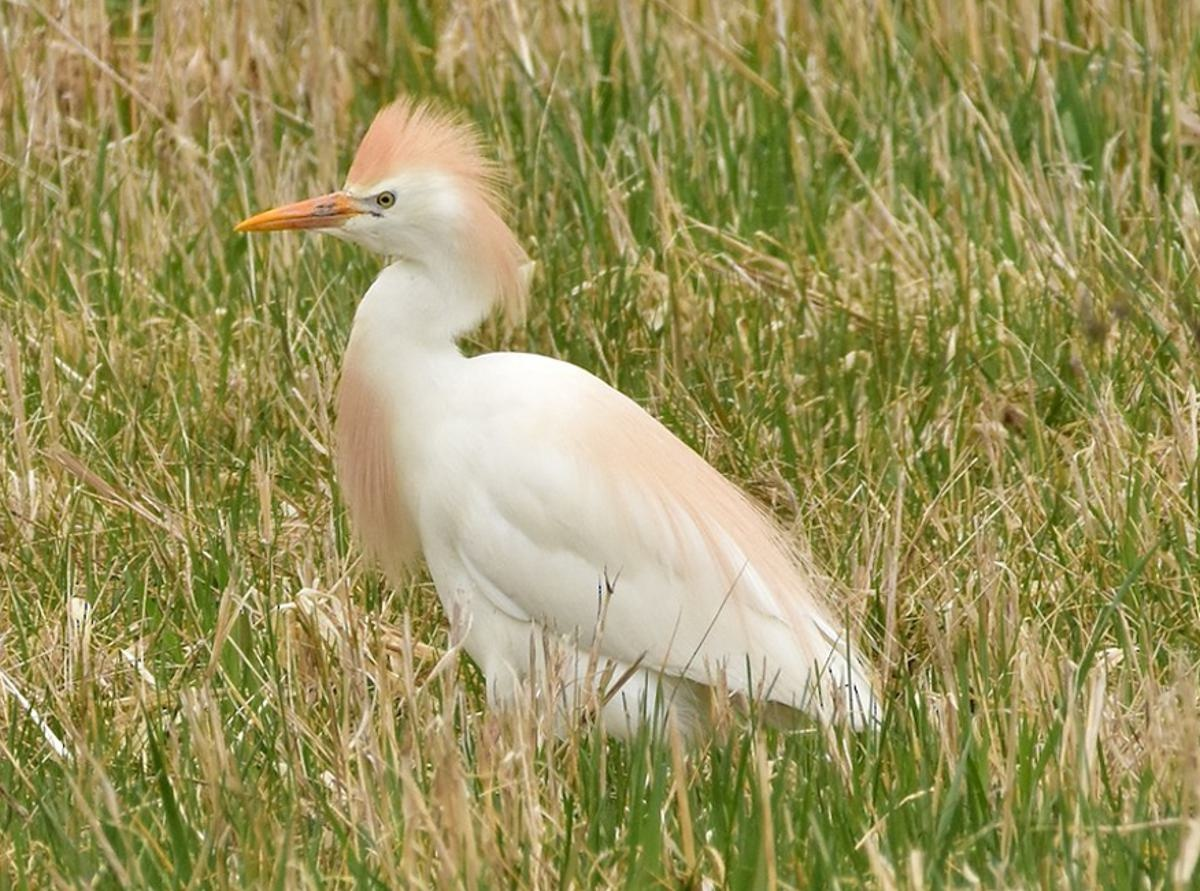egret: (240, 102, 932, 816)
